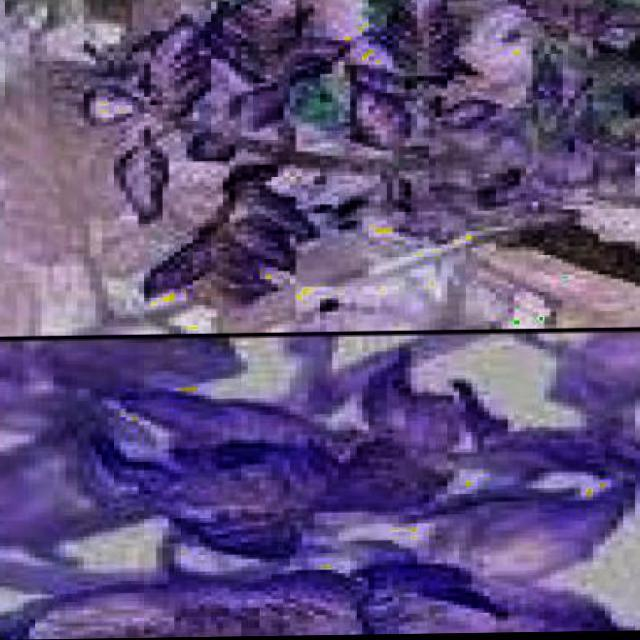Tomato healthy leaf: (17, 570, 558, 640), (151, 417, 454, 516), (186, 506, 345, 576), (120, 133, 182, 228), (150, 31, 212, 122), (234, 207, 308, 280), (346, 69, 406, 148)
